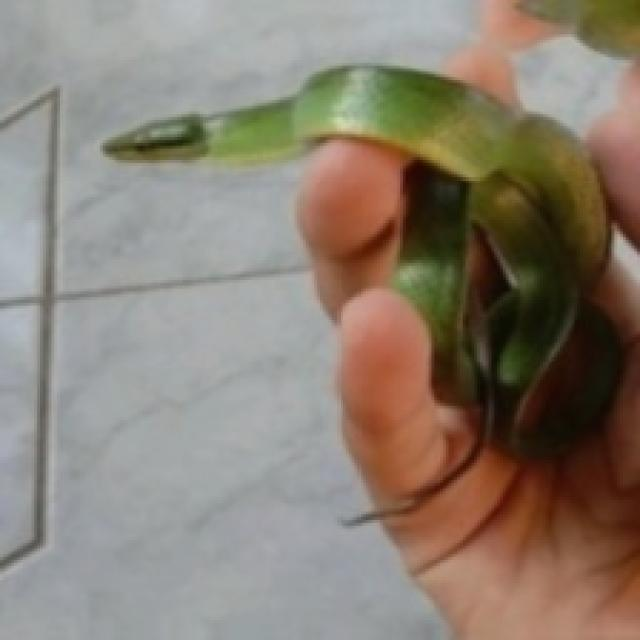red-tailed green ratsnake: (103, 66, 620, 454)
